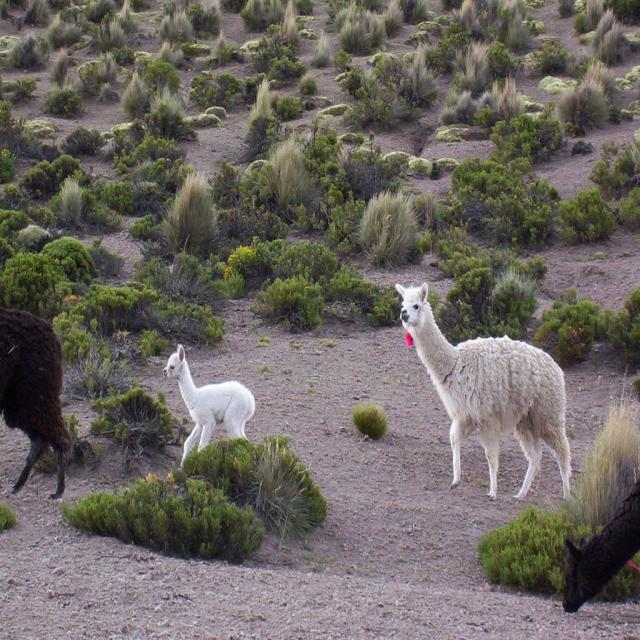alpaca: (394, 282, 575, 502), (164, 345, 257, 468)
